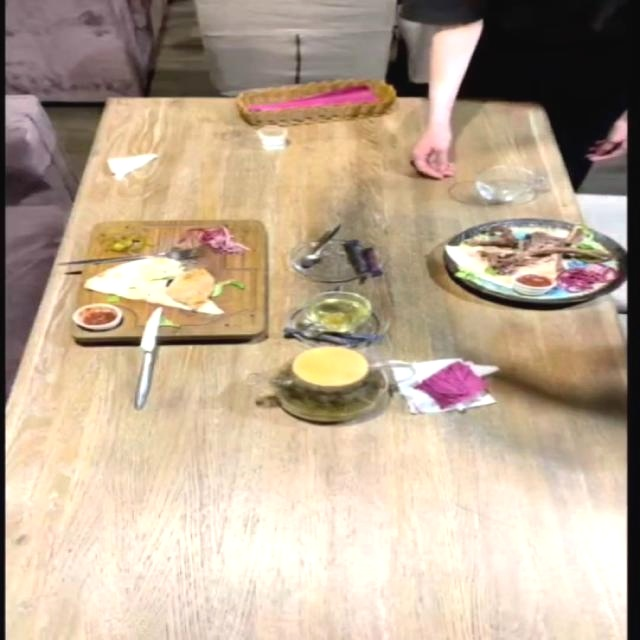meat: (428, 189, 617, 339), (70, 218, 268, 342)
tea: (269, 345, 388, 423)
